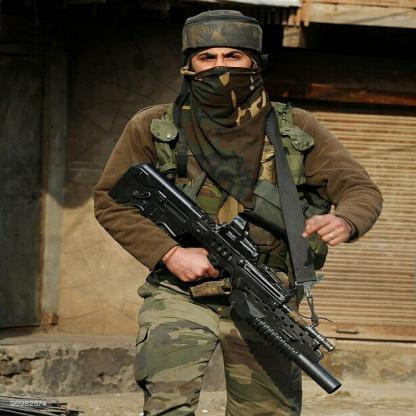Gun: (84, 137, 396, 402)
